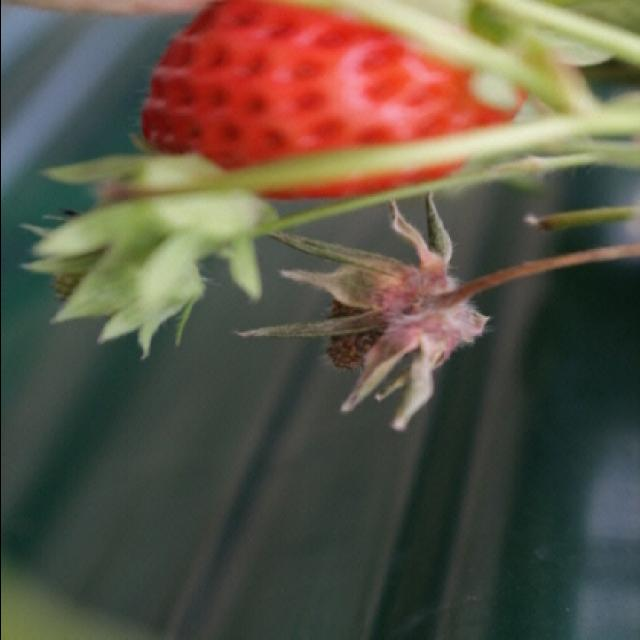Gray Mold: (230, 188, 495, 434)
